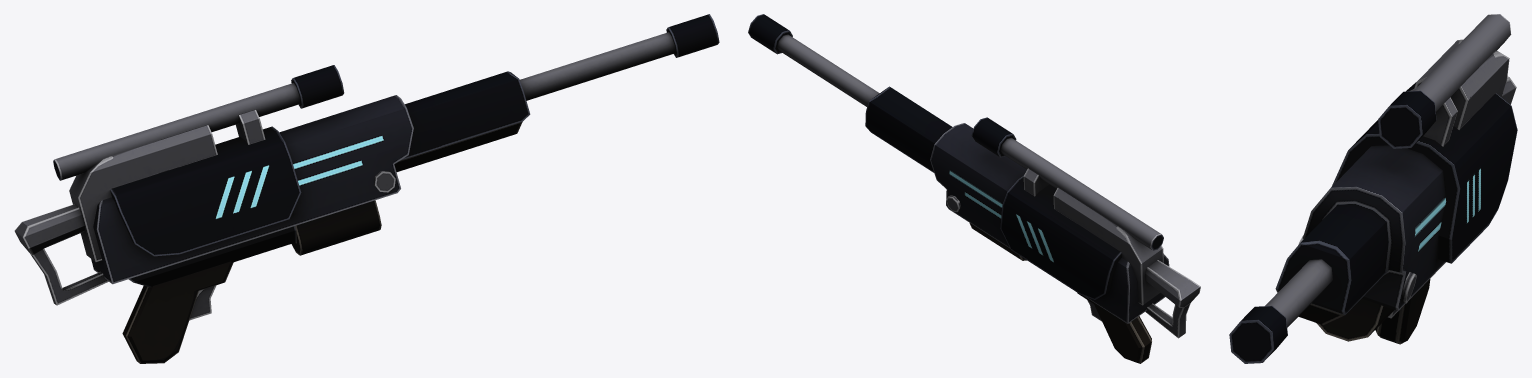
Rendered from TR_weaponC.fbx.
3 views of the same model, side by side, from view 1: azimuth 30°, elevation 25°; view 2: azimuth 150°, elevation 25°; view 3: azimuth 270°, elevation 25° (orthographic). The views are drawn at different scales.
Parts seen in each view (by area): view 1: TR_weaponC; view 2: TR_weaponC; view 3: TR_weaponC.
Boxes of the visible parts, x1,y1,x2,y2 form: TR_weaponC: [14, 14, 719, 363]; TR_weaponC: [748, 14, 1200, 363]; TR_weaponC: [1229, 14, 1517, 363].
Size of the model in its own units: 109 by 43.88 by 30.42.
